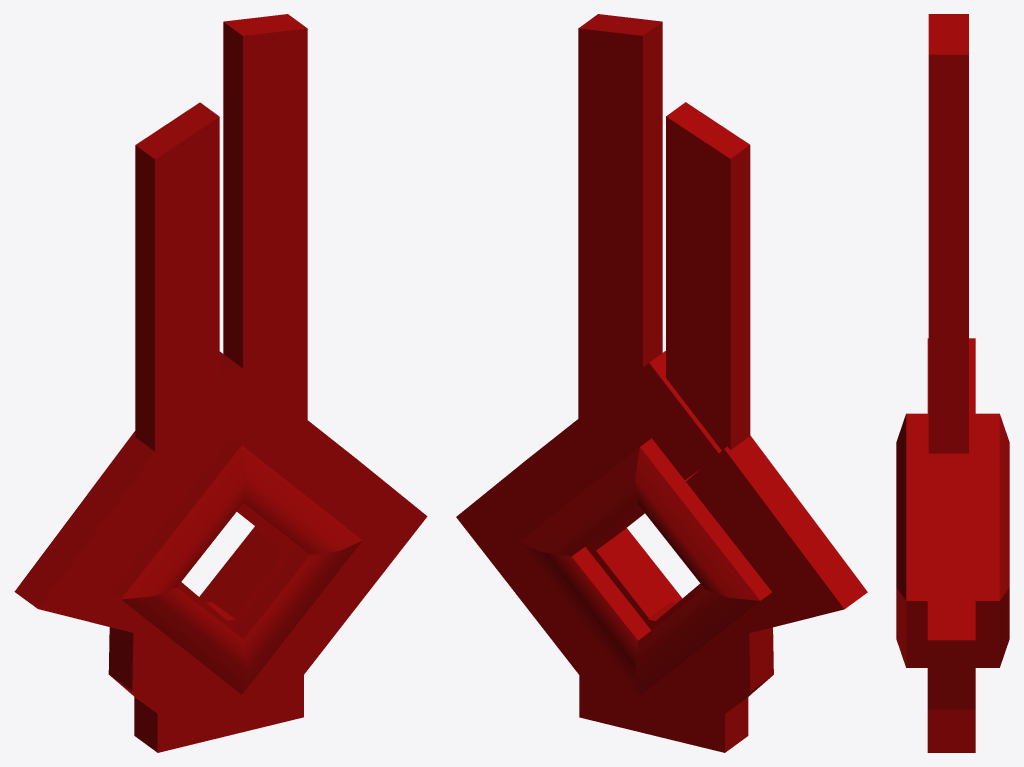
File: SM_Env_Monolith_02_Collision.glb
3 renders of one model, left to right at view 1: azimuth 30°, elevation 25°; view 2: azimuth 150°, elevation 25°; view 3: azimuth 270°, elevation 25°, orthographic. The views are drawn at different scales.
Parts seen in each view (by area): view 1: SM_Env_Monolith_02_Collision; view 2: SM_Env_Monolith_02_Collision; view 3: SM_Env_Monolith_02_Collision.
Part boxes in pixels (x1,y1,x2,y2): SM_Env_Monolith_02_Collision: (14,14,427,752); SM_Env_Monolith_02_Collision: (456,14,867,752); SM_Env_Monolith_02_Collision: (896,14,1009,752).
Size of the model in its own units: 12.28 by 20.95 by 3.04.
